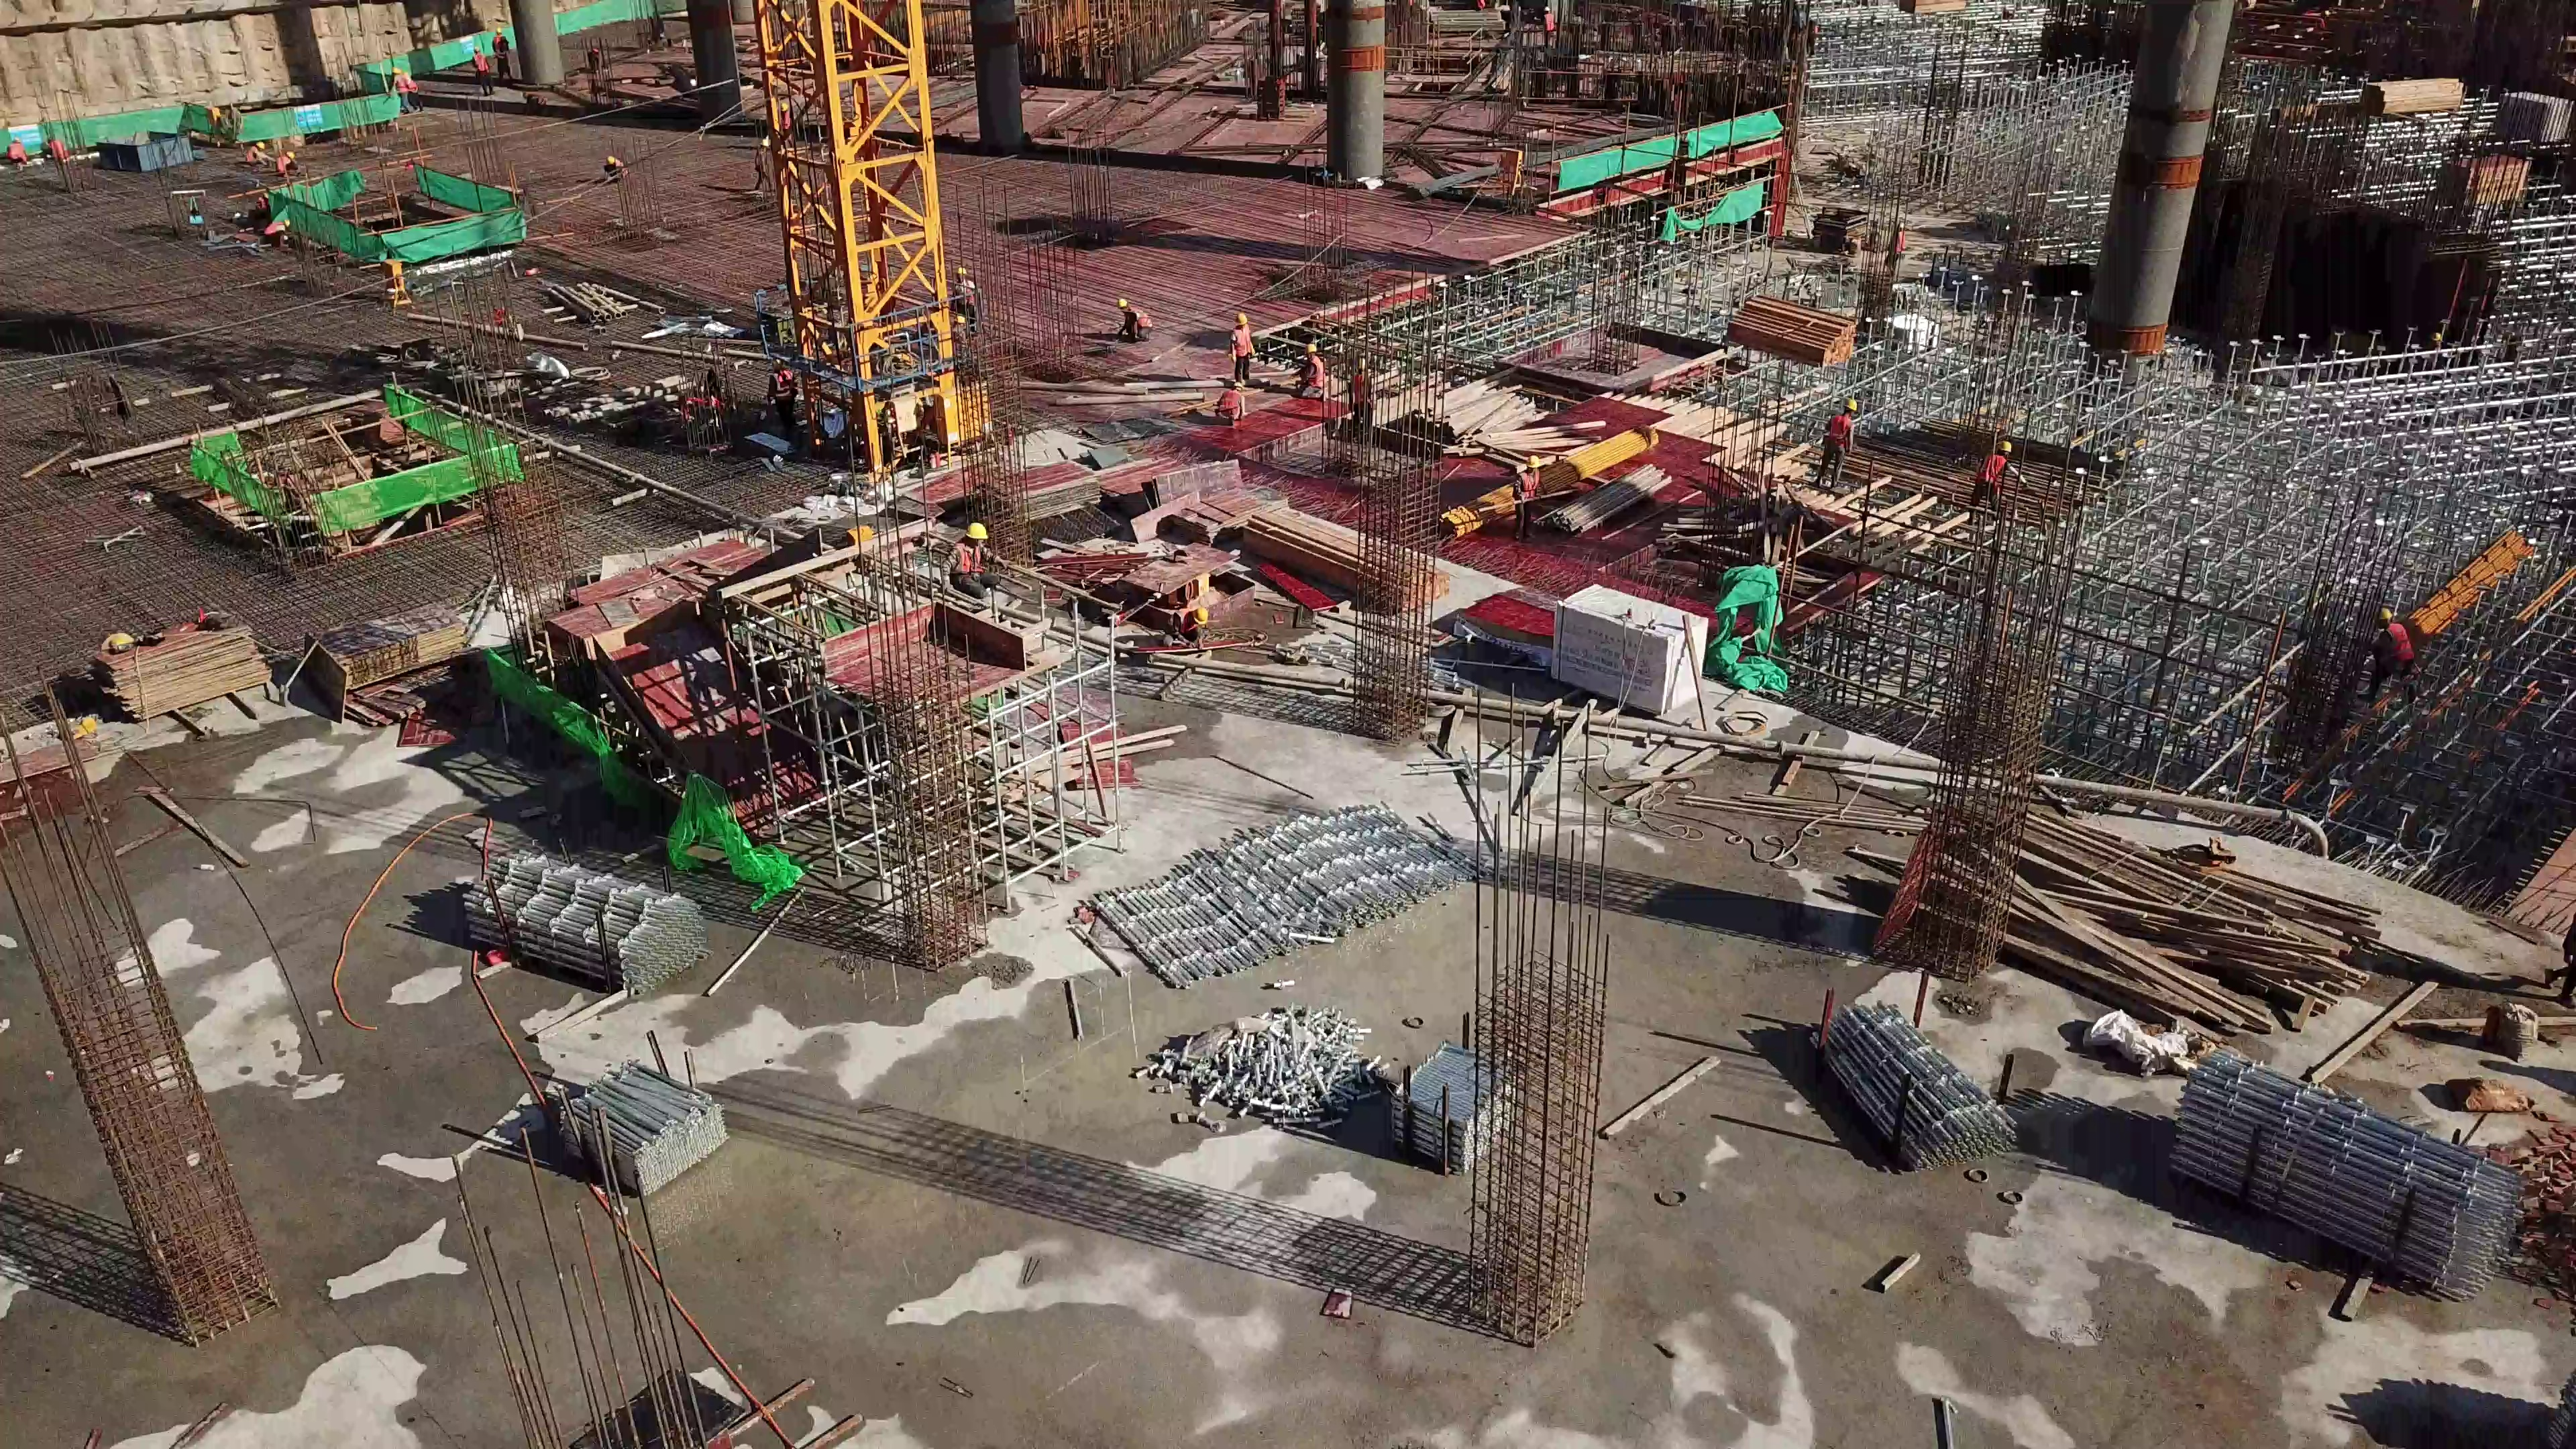board: (95, 619, 274, 724), (314, 597, 474, 683), (1171, 484, 1277, 547), (1024, 455, 1103, 517), (1105, 451, 1179, 494)
ebox: (933, 386, 1004, 453), (1497, 146, 1527, 200)
helmet: (964, 520, 988, 538), (1525, 453, 1540, 470), (1998, 439, 2012, 452), (1843, 397, 1857, 411), (1234, 308, 1248, 323), (1306, 343, 1319, 355), (1116, 298, 1130, 307), (957, 265, 972, 275), (256, 140, 267, 151), (287, 150, 297, 160), (494, 25, 504, 34), (392, 65, 403, 73), (472, 44, 482, 53), (605, 155, 616, 163), (1544, 6, 1553, 12)
person: (1807, 392, 1873, 488), (936, 517, 1015, 596), (1966, 438, 2028, 510), (1507, 448, 1544, 544), (767, 352, 806, 438), (1226, 305, 1260, 382), (1348, 361, 1384, 429), (1292, 337, 1327, 402), (1112, 293, 1163, 340), (959, 257, 987, 330), (1882, 221, 1917, 273), (1211, 382, 1252, 425), (467, 44, 496, 96), (7, 132, 41, 173), (388, 64, 414, 114), (244, 139, 277, 170), (274, 144, 306, 175), (602, 152, 635, 182), (493, 25, 509, 86), (43, 132, 72, 163), (413, 62, 423, 116), (1540, 5, 1559, 33)
rebar: (1419, 121, 1689, 195)
scaffold: (1089, 786, 1450, 1004), (2164, 1038, 2527, 1254), (452, 839, 694, 997), (1815, 998, 2022, 1177)
vest: (945, 540, 991, 572), (1826, 413, 1854, 447), (1978, 453, 2007, 486), (769, 370, 798, 402), (1217, 389, 1246, 419), (1128, 307, 1157, 331), (1302, 357, 1325, 389), (1233, 326, 1255, 359), (1515, 470, 1540, 498), (473, 54, 490, 72), (1893, 231, 1907, 254), (243, 144, 257, 164), (394, 76, 407, 93)
wood: (1243, 499, 1439, 611), (1729, 288, 1856, 368), (2360, 72, 2473, 119)
